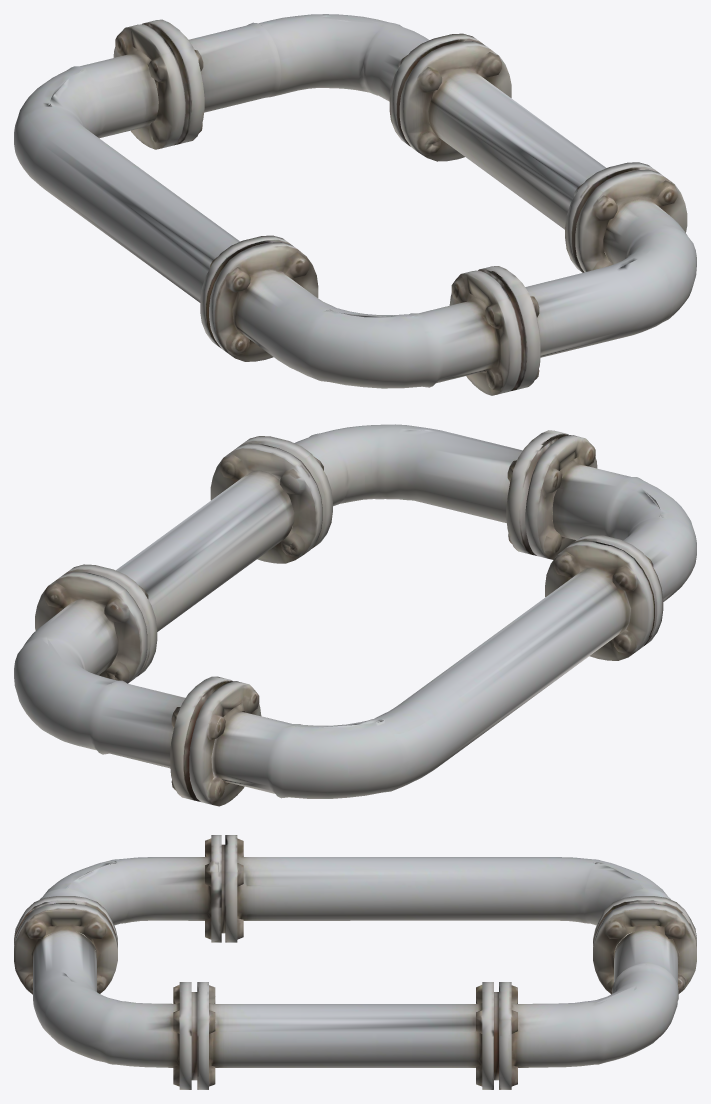
File: Industrial__l-shaped_industrial_pipe_3b570c7e_v2.cluster.glb
3 views of the same model, one above another, from view 1: azimuth 30°, elevation 25°; view 2: azimuth 150°, elevation 25°; view 3: azimuth 270°, elevation 25° (orthographic). The views are drawn at different scales.
Visible parts, largest first — view 1: material; view 2: material; view 3: material.
Boxes of the visible parts, box(x1,y1,x2,y2) form: material: box(14, 14, 696, 395); material: box(14, 424, 696, 806); material: box(14, 835, 696, 1089).
Bounding box in the file's own units: 1.26 × 0.291 × 1.9.
1 material, 1 textured.
